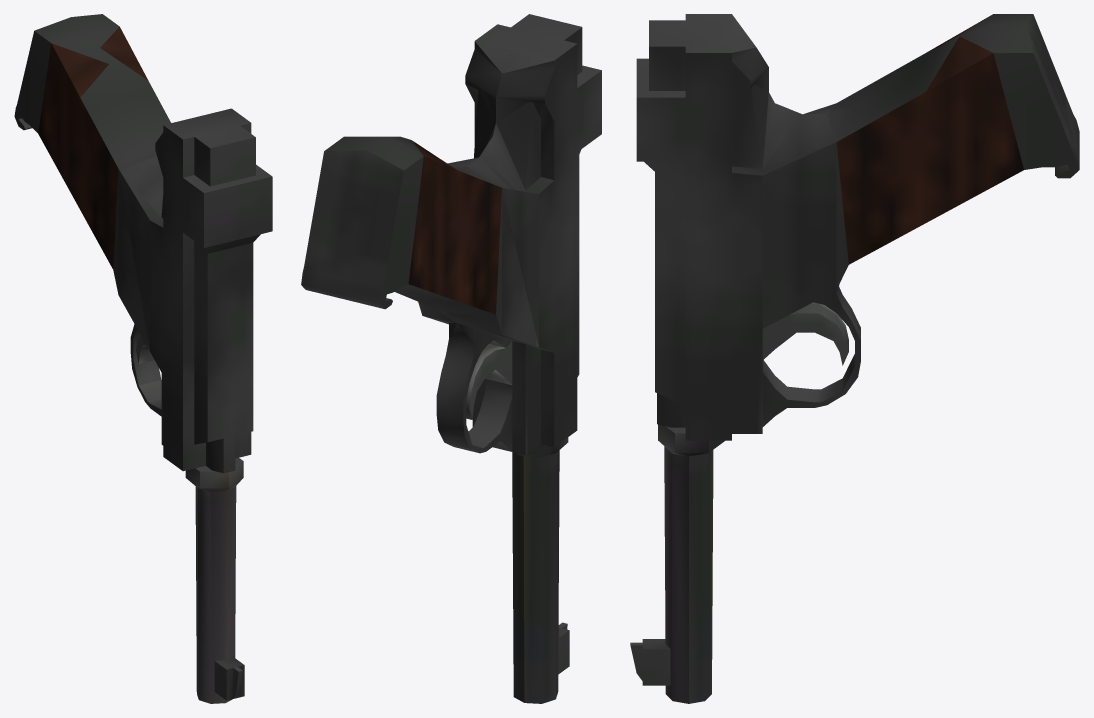
File: lahti.obj
The picture shows the model from 3 angles, left to right: view 1: azimuth 30°, elevation 25°; view 2: azimuth 150°, elevation 25°; view 3: azimuth 270°, elevation 25°; orthographic projection. The views are drawn at different scales.
Parts seen in each view (by area): view 1: g0; view 2: g0; view 3: g0.
Boxes of the visible parts, left/top/right/bottom form: g0: left=14, top=14, right=272, bottom=703; g0: left=301, top=14, right=601, bottom=703; g0: left=630, top=14, right=1079, bottom=703.
Bounding box in the file's own units: 0.2534 × 2.03 × 1.23.
Materials: 1 (1 with a texture image).
